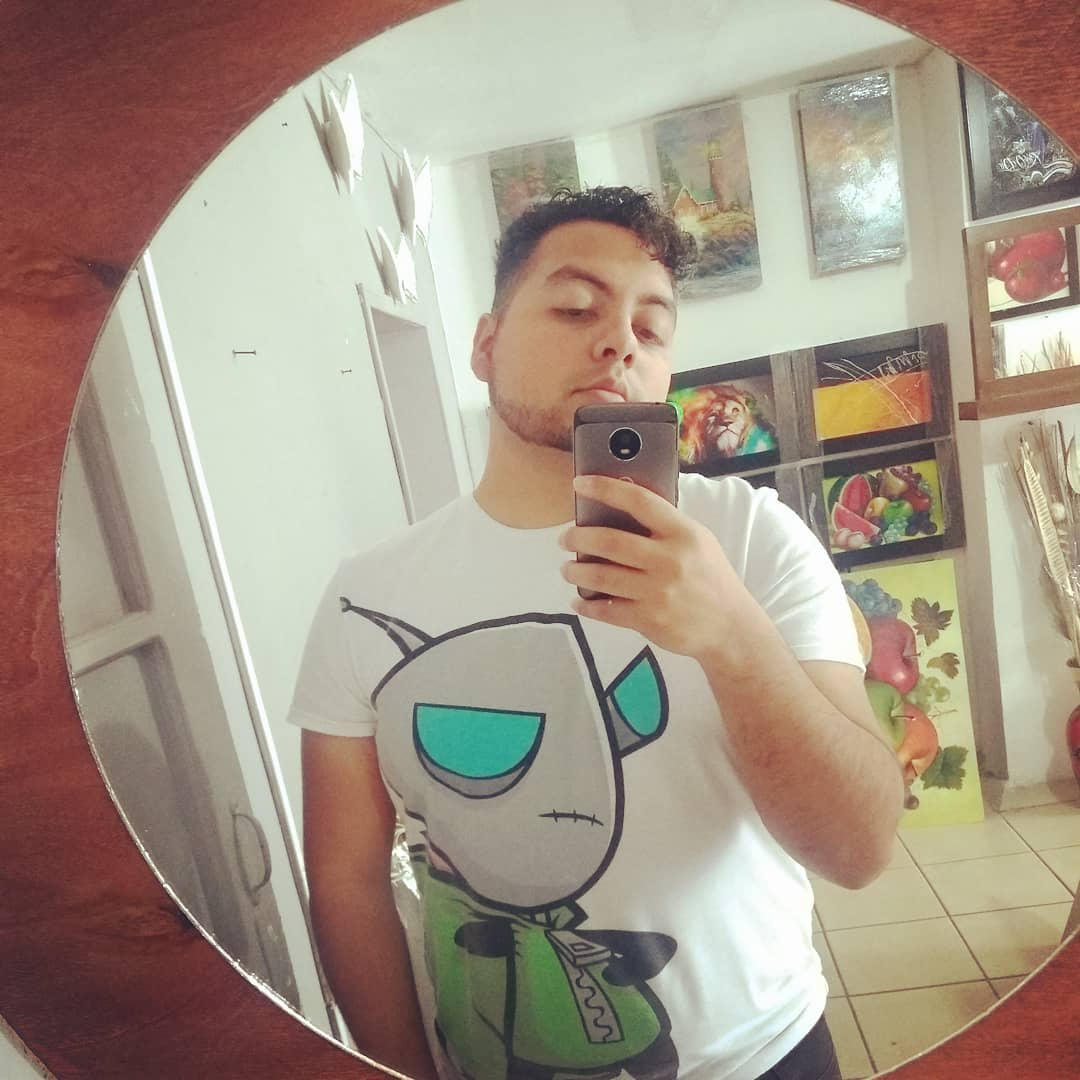Yoshi: (315, 179, 933, 966)
